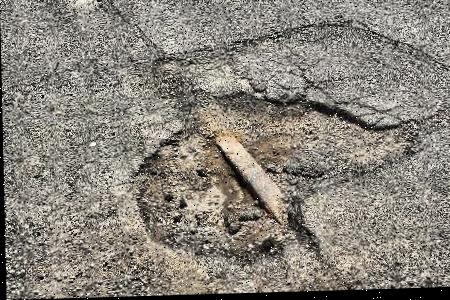pothole: (126, 93, 374, 271)
